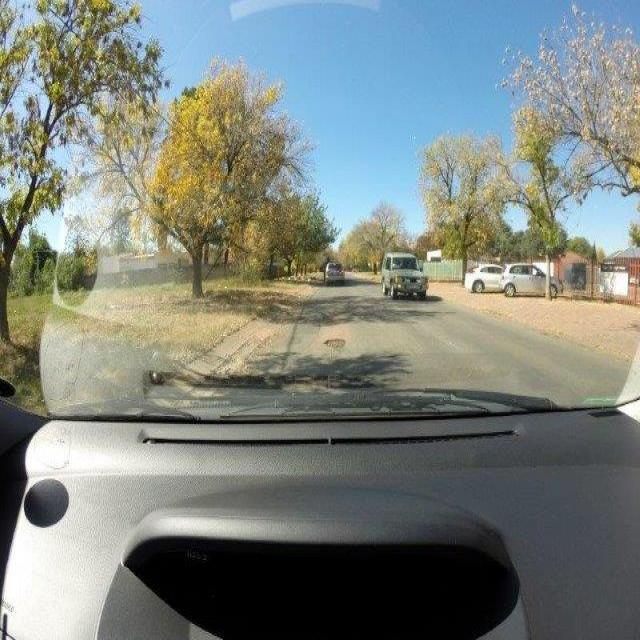lubang: (318, 332, 346, 351)
